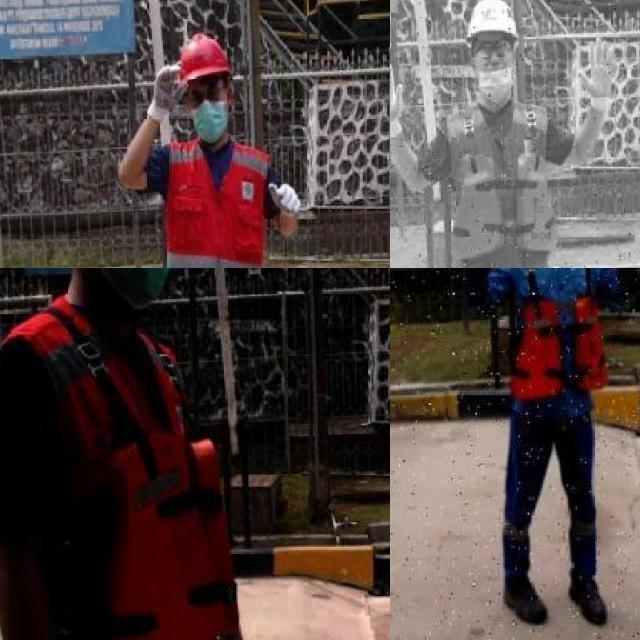apron: (576, 34, 618, 114), (146, 59, 188, 114), (265, 182, 305, 220), (390, 63, 407, 140)
